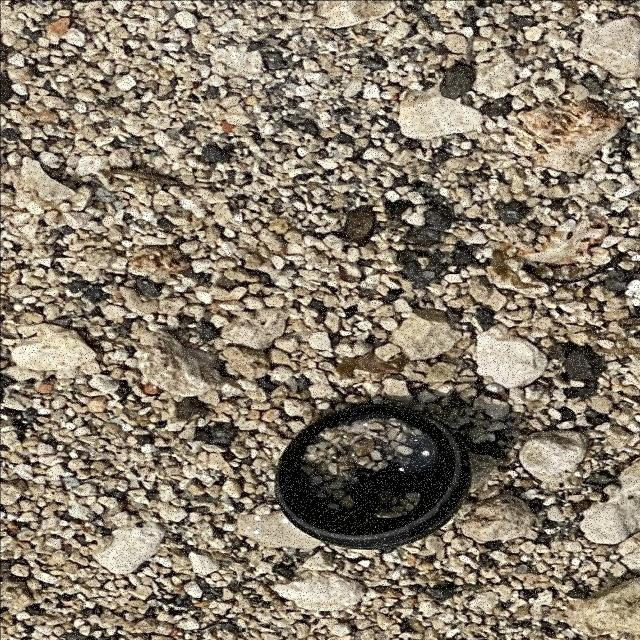plastic_waste: (273, 402, 479, 554)
